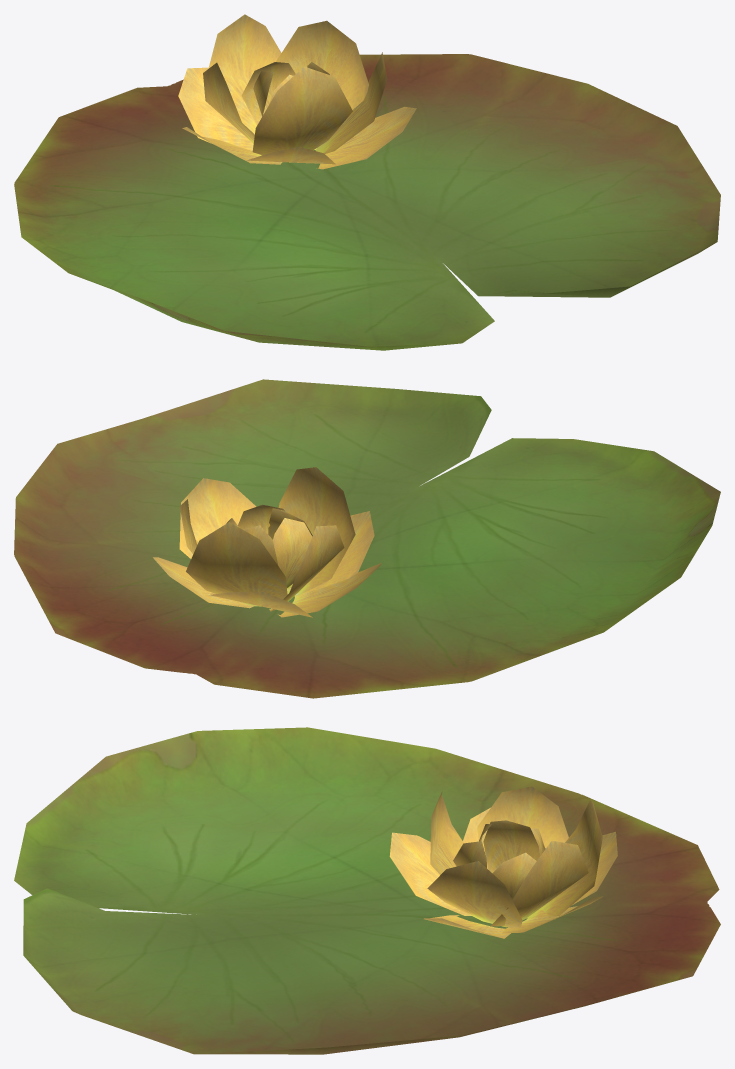
File: lillypad1_6_1_lod1.fbx
The picture shows the model from 3 angles, top to bottom: view 1: azimuth 30°, elevation 25°; view 2: azimuth 150°, elevation 25°; view 3: azimuth 270°, elevation 25°; orthographic projection. The views are drawn at different scales.
Parts seen in each view (by area): view 1: Mesh Object; view 2: Mesh Object; view 3: Mesh Object.
Boxes of the visible parts, x1,y1,x2,y2 form: Mesh Object: (14, 14, 720, 350); Mesh Object: (14, 379, 720, 698); Mesh Object: (14, 727, 720, 1054).
Size of the model in its own units: 1.37 by 0.2517 by 1.32.
